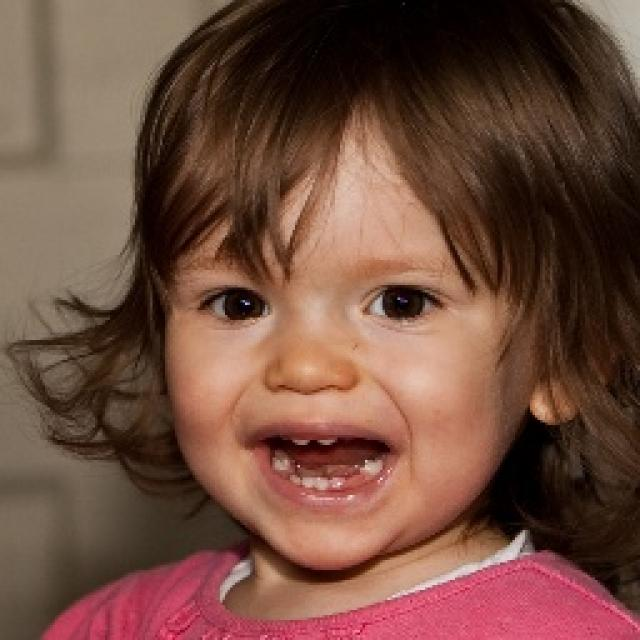earlobe: (526, 376, 579, 427)
eye: (356, 285, 446, 322), (200, 288, 272, 323)
nose: (262, 372, 355, 430)
